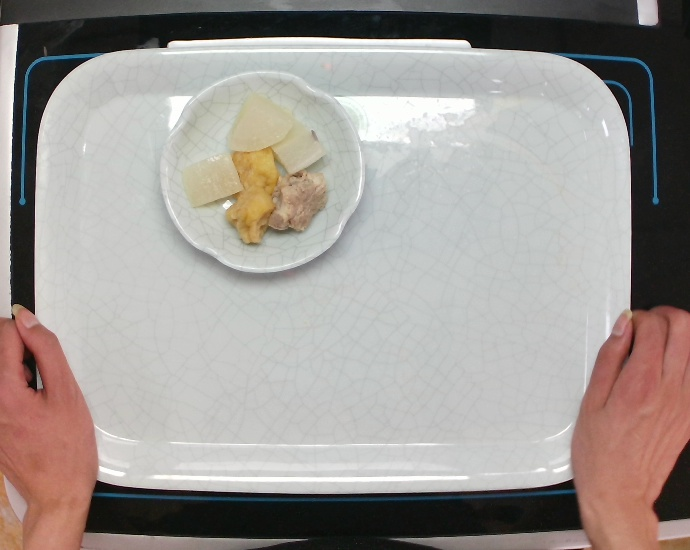JYsf-Ao_Yuan_Wan: (153, 71, 364, 277)
